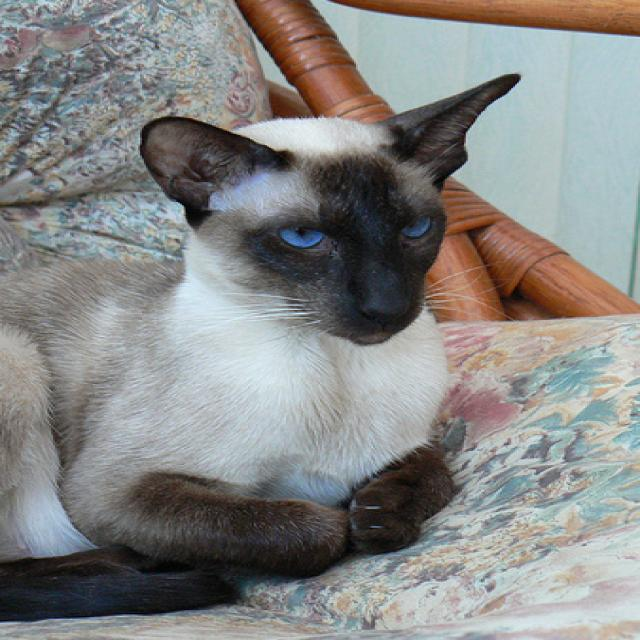Siamese: (0, 68, 524, 628)
